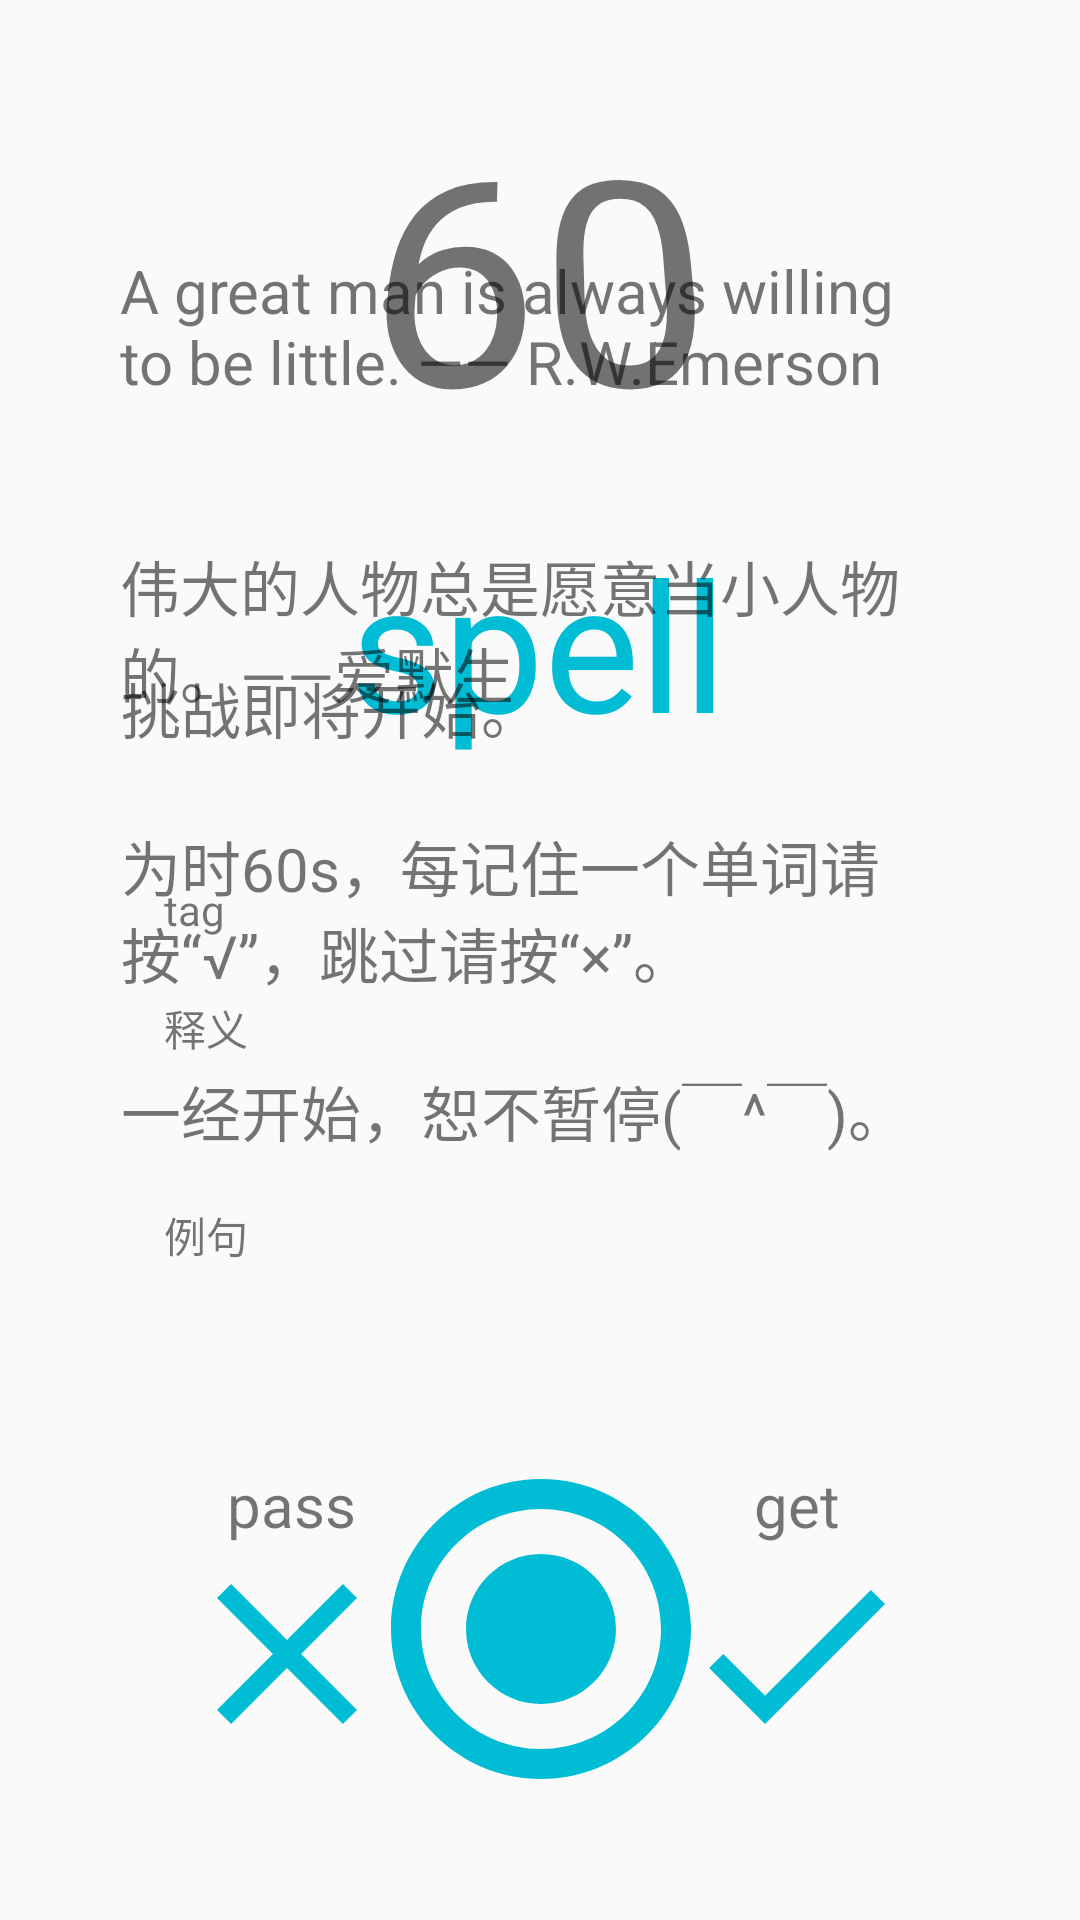

Named icons in this screenshot (1080 x 1920) and their centers, [x,y]:
check: [797,1657]
close: [287,1654]
start: [541,1629]
